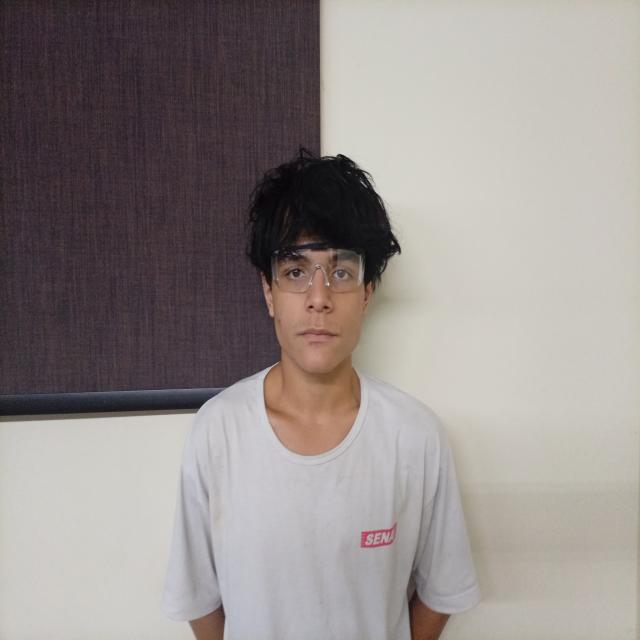oculos-epi: (273, 241, 366, 292)
